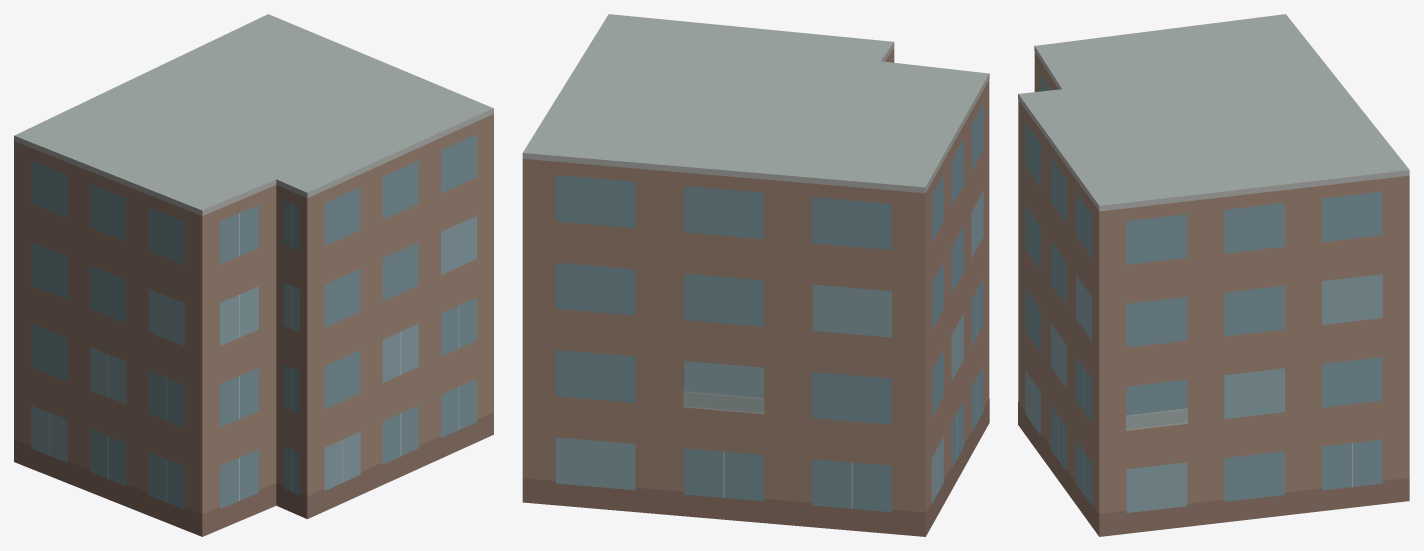
The model's file is survey-upis-33037179.glb.
3 views of the same model, side by side, from view 1: azimuth 30°, elevation 25°; view 2: azimuth 150°, elevation 25°; view 3: azimuth 270°, elevation 25° (orthographic). The views are drawn at different scales.
Visible parts, largest first — view 1: survey-upis-33037179.tmp; view 2: survey-upis-33037179.tmp; view 3: survey-upis-33037179.tmp.
Part boxes in pixels (x1,y1,x2,y2): survey-upis-33037179.tmp: (14, 14, 493, 536); survey-upis-33037179.tmp: (522, 14, 989, 536); survey-upis-33037179.tmp: (1018, 14, 1409, 536).
Bounding box in the file's own units: 18.05 × 14.5 × 15.56.
